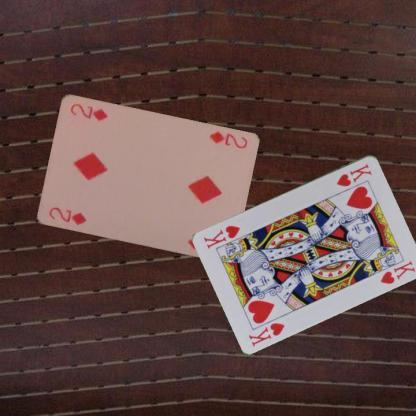2d: (46, 204, 88, 228), (206, 128, 249, 150)
Kh: (245, 320, 286, 348), (334, 160, 374, 188)
